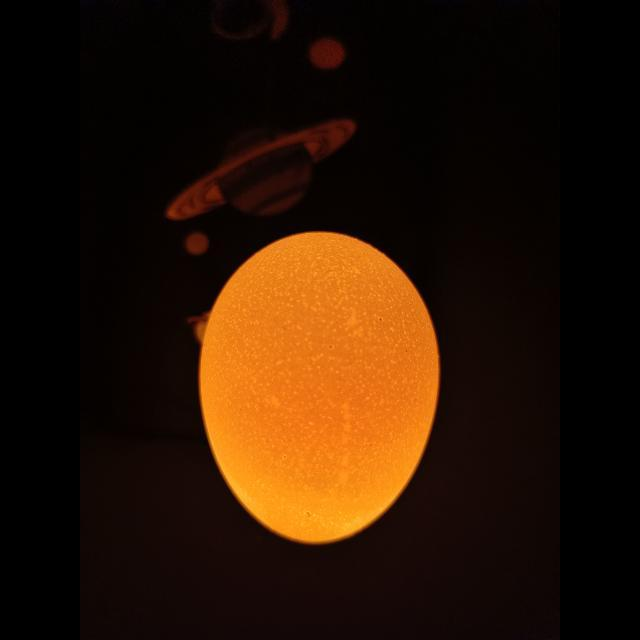AA - Premium: (199, 233, 439, 543)
